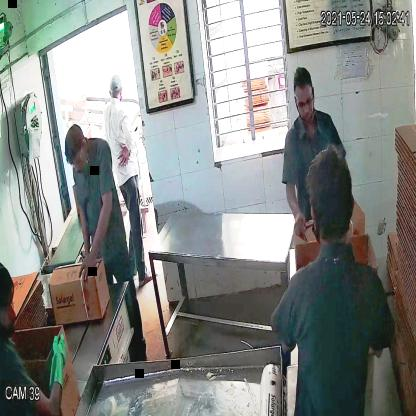goggles: (294, 92, 316, 115)
